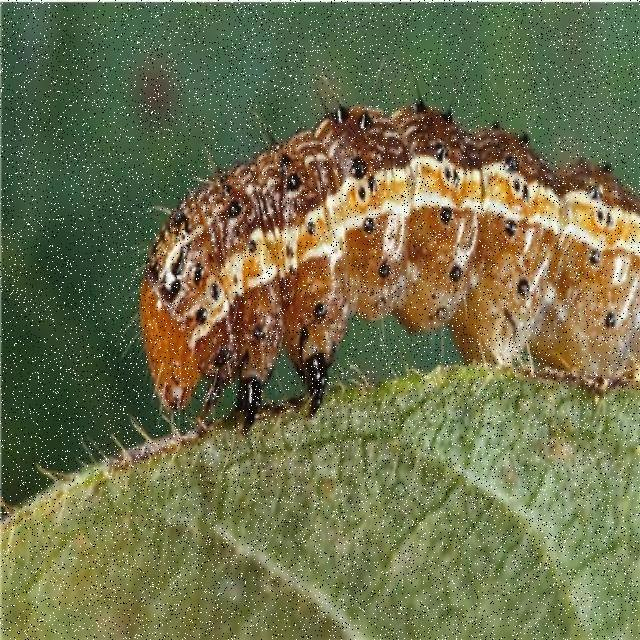army worm: (120, 69, 640, 503)
